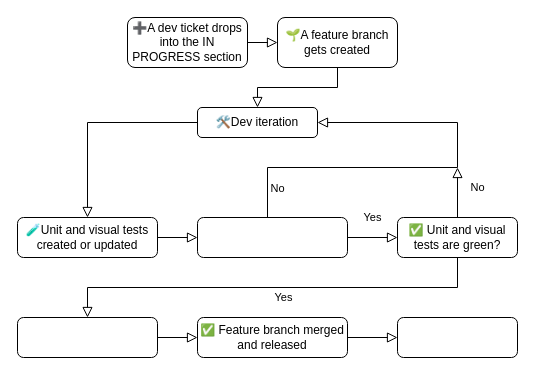
Image size: 535x375. Some labels were removed from this diagram. The box of each missing label's shape, as (x1, y1, x2, y2) in pixels:
👀 Preview deployment accepted?: (196, 216, 348, 258)
📚Documentation stories created: (16, 316, 158, 358)
📚Documentation written and published: (396, 316, 518, 358)
